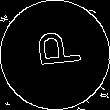P_W: (28, 34, 82, 76)
